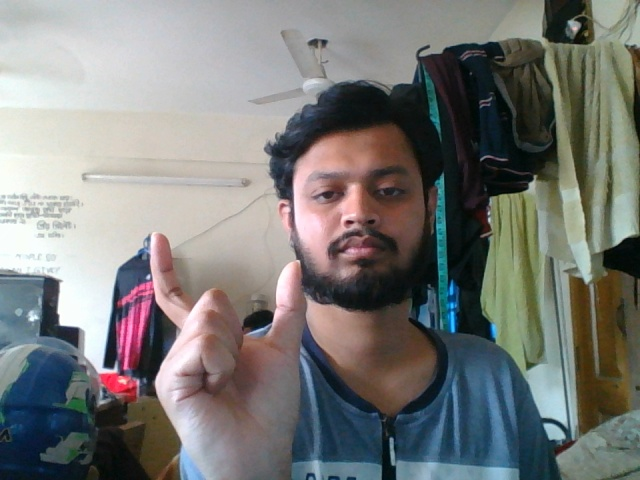chandrobindu: (133, 226, 321, 480)
